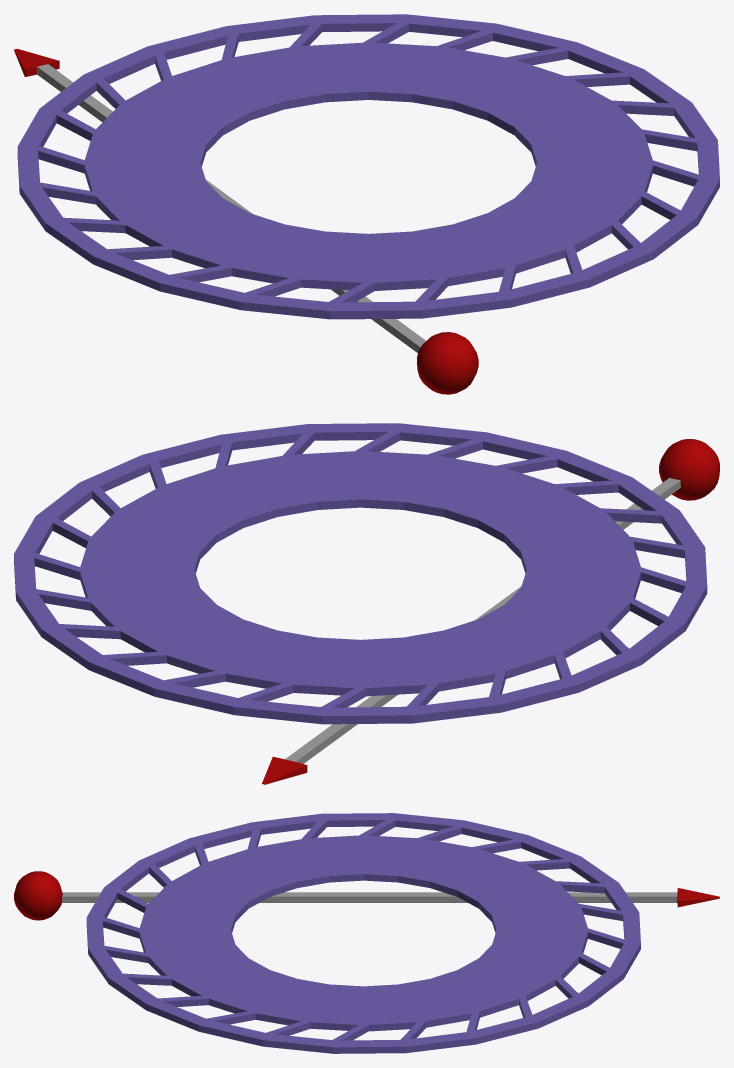
File: Smaller_dial_Large_clockhand.fbx
3 views of the same model, one above another, from view 1: azimuth 30°, elevation 25°; view 2: azimuth 150°, elevation 25°; view 3: azimuth 270°, elevation 25° (orthographic). The views are drawn at different scales.
Parts seen in each view (by area): view 1: Smaller_dial_Large_clockhand; view 2: Smaller_dial_Large_clockhand; view 3: Smaller_dial_Large_clockhand.
Part boxes in pixels (<box>): Smaller_dial_Large_clockhand: <box>14,14,719,394</box>; Smaller_dial_Large_clockhand: <box>14,423,719,784</box>; Smaller_dial_Large_clockhand: <box>14,813,719,1053</box>.
Size of the model in its own units: 10.97 by 0.9804 by 13.97.
